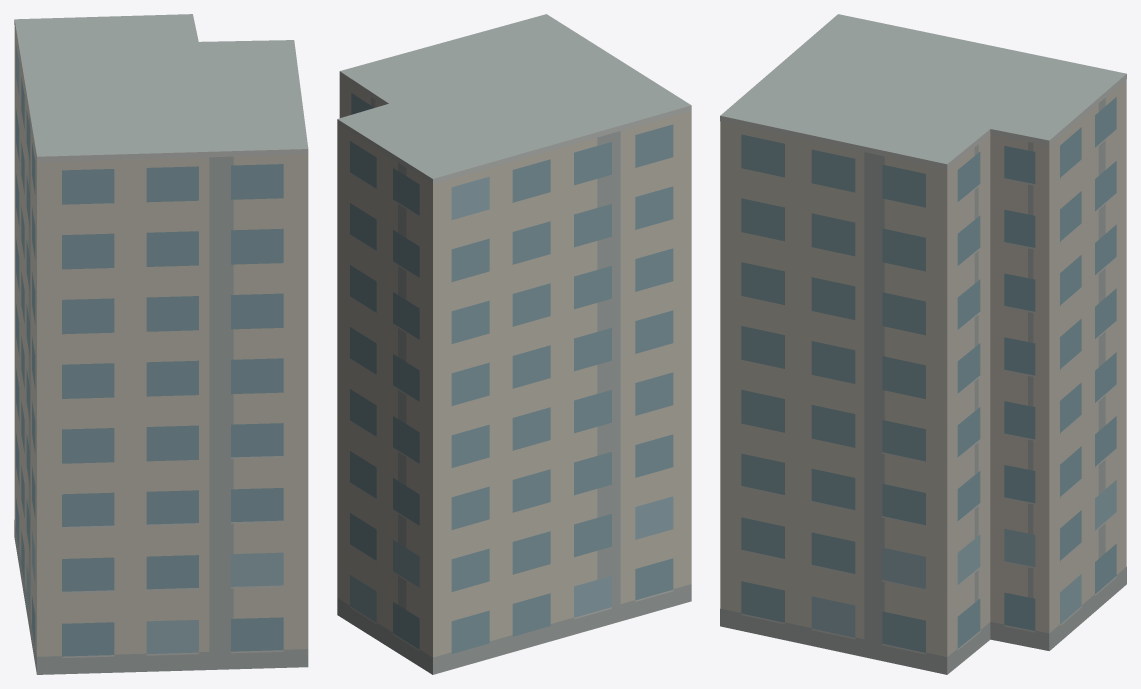
File: survey-upis-32906884.glb
3 views of the same model, side by side, from view 1: azimuth 30°, elevation 25°; view 2: azimuth 150°, elevation 25°; view 3: azimuth 270°, elevation 25° (orthographic). The views are drawn at different scales.
Parts seen in each view (by area): view 1: survey-upis-32906884.tmp; view 2: survey-upis-32906884.tmp; view 3: survey-upis-32906884.tmp.
Part boxes in pixels (x1,y1,x2,y2): survey-upis-32906884.tmp: (14,14,308,674); survey-upis-32906884.tmp: (337,14,691,674); survey-upis-32906884.tmp: (720,14,1126,674).
Bounding box in the file's own units: 14.34 × 22.7 × 16.4.
